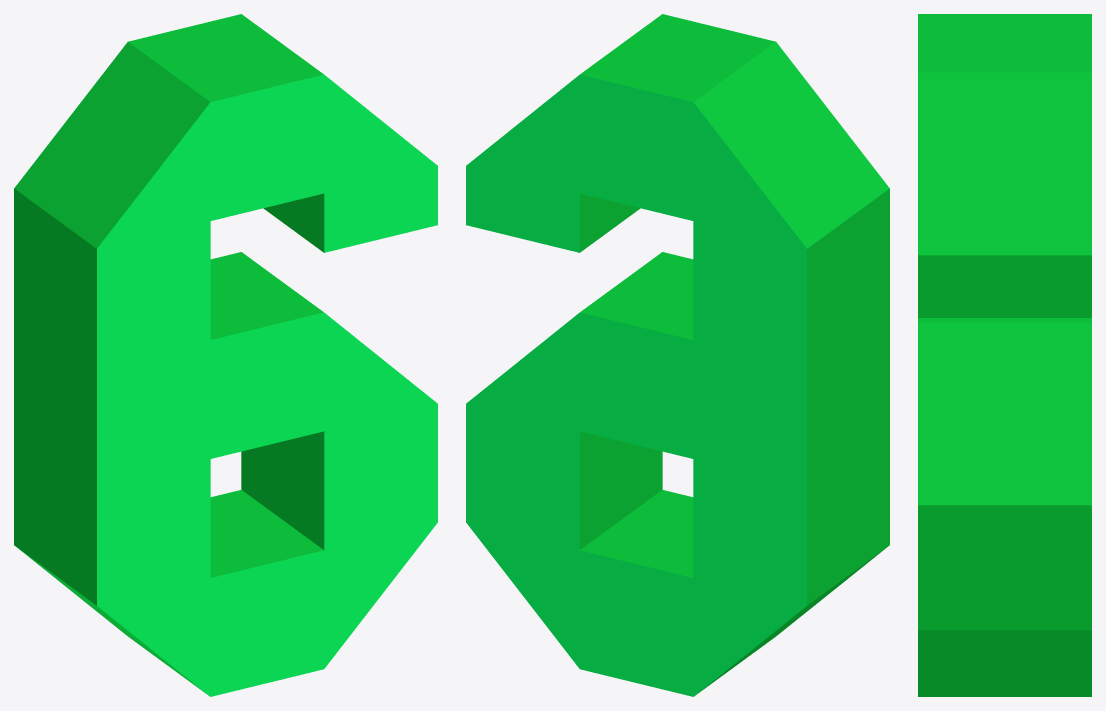
File: 2681268d-71e6-4573-a317-4a8acdd47eb5.glb
The picture shows the model from 3 angles, left to right: view 1: azimuth 30°, elevation 25°; view 2: azimuth 150°, elevation 25°; view 3: azimuth 270°, elevation 25°; orthographic projection. The views are drawn at different scales.
Visible parts, largest first — view 1: 6_DeltaBlock_Green; view 2: 6_DeltaBlock_Green; view 3: 6_DeltaBlock_Green.
Part boxes in pixels (x1,y1,x2,y2): 6_DeltaBlock_Green: [14, 14, 437, 696]; 6_DeltaBlock_Green: [466, 14, 889, 696]; 6_DeltaBlock_Green: [918, 14, 1091, 696].
Size of what is drawn, in the model's own units: 0.1071 by 0.1786 by 0.045.
Materials: 2 (2 with a texture image).
